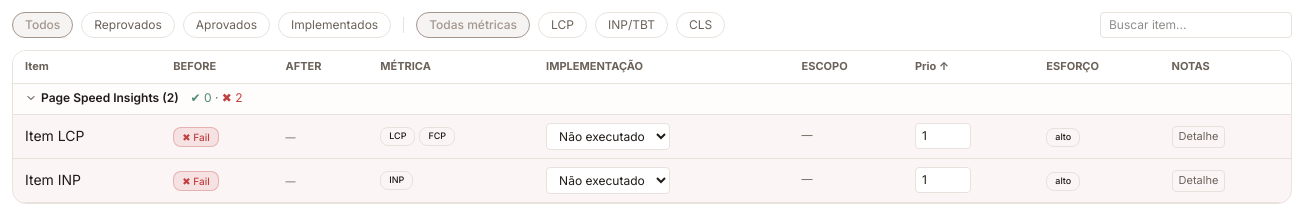
Test: ChecklistGrid › filtro por métrica INP/TBT esconde itens de outra métrica
The width and height of the screenshot is (1304, 221).
Expected: the text "Item LCP" is shown, [13,114,165,158]
Expected: the text "Item INP" is shown, [13,158,165,202]
Click the button "INP/TBT".
click(631, 25)  # box [595,12,668,38]
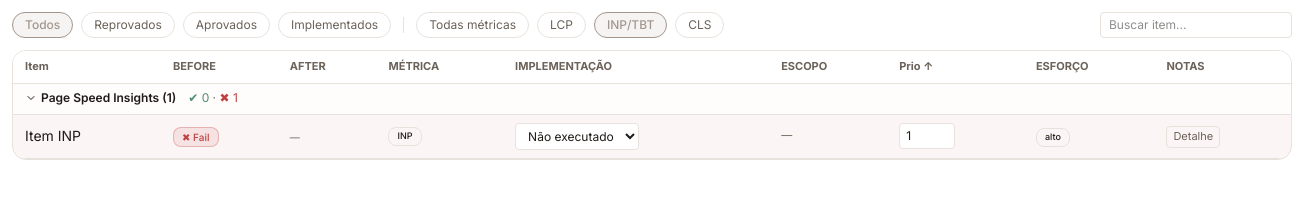
Expected: the text "Item INP" is shown, [13,114,165,158]
Now the text "Item LCP" is gone
